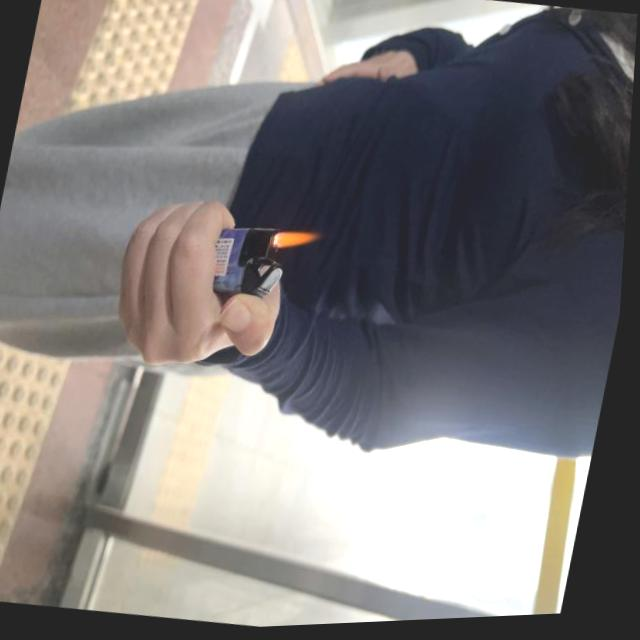Fire: (279, 230, 320, 258)
